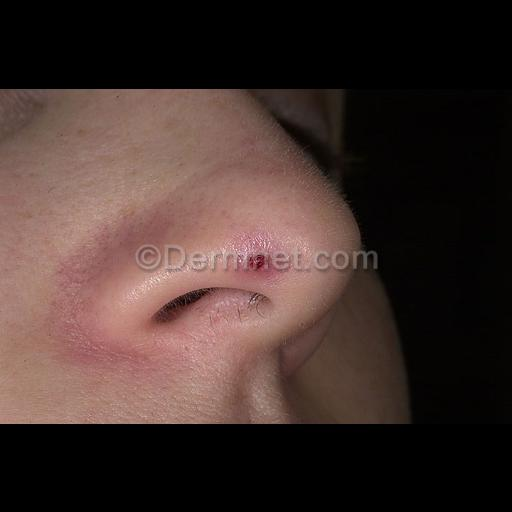Skin_Lesion: (242, 230, 278, 274)
